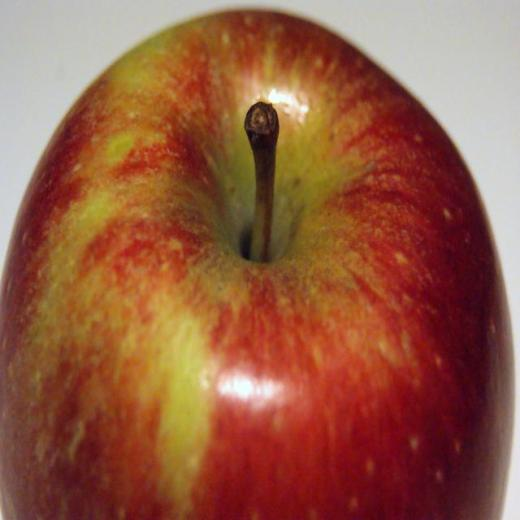Apple: (0, 8, 516, 520)
